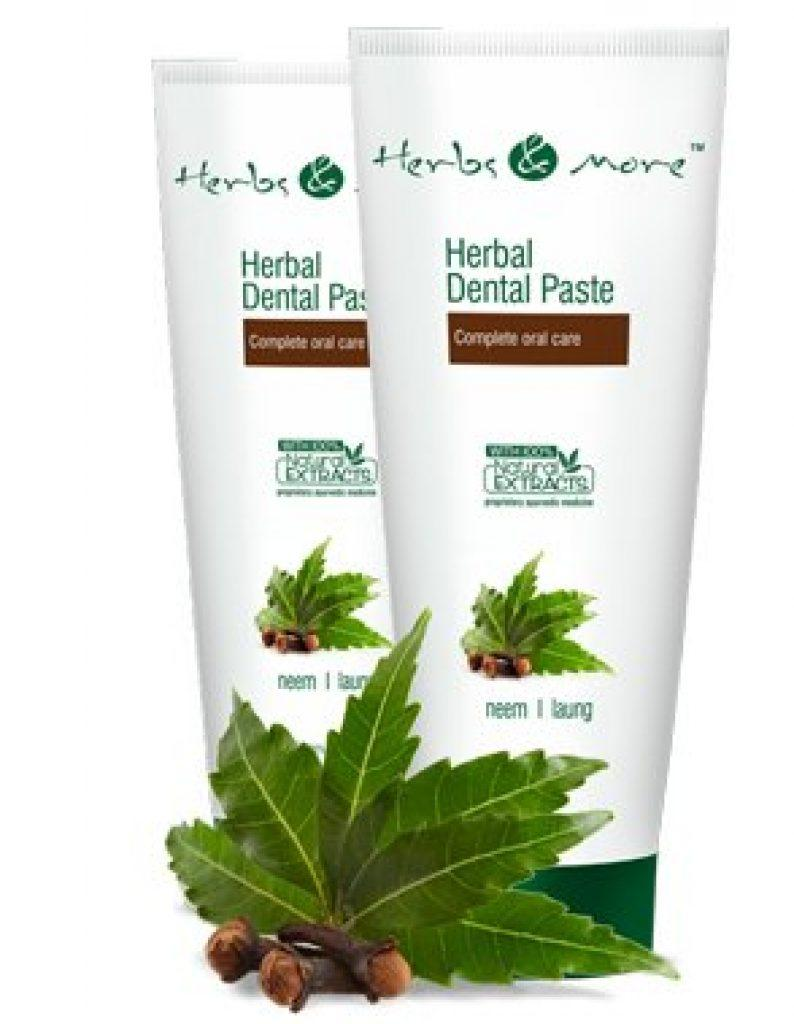toothpaste: (354, 4, 699, 986), (146, 41, 419, 936)
